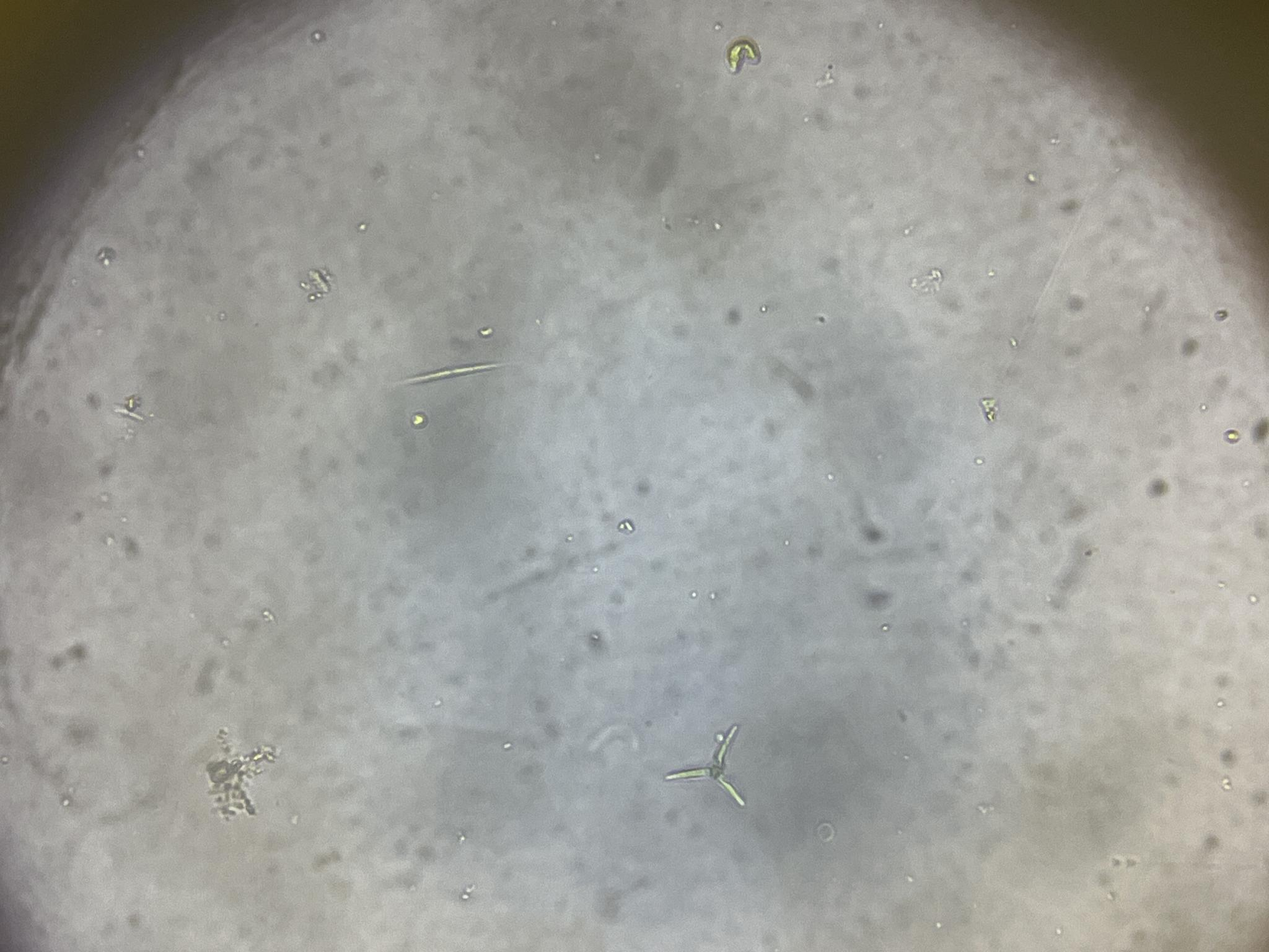Scenedesmus: (653, 715, 765, 824)
